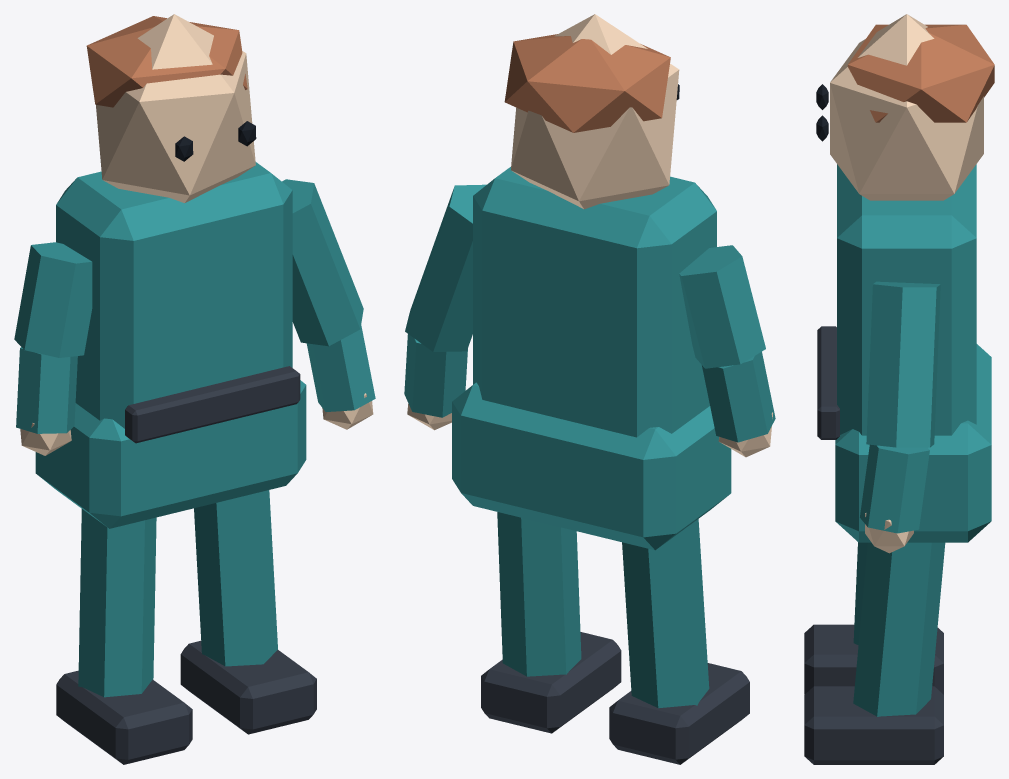
The model's file is npcs_007_seed100.glb.
The picture shows the model from 3 angles, left to right: view 1: azimuth 30°, elevation 25°; view 2: azimuth 150°, elevation 25°; view 3: azimuth 270°, elevation 25°; orthographic projection. The views are drawn at different scales.
Parts seen in each view (by area): view 1: npcs_007_seed100; view 2: npcs_007_seed100; view 3: npcs_007_seed100.
Part boxes in pixels (left/top/right/bottom): npcs_007_seed100: left=14, top=14, right=375, bottom=764; npcs_007_seed100: left=404, top=14, right=775, bottom=764; npcs_007_seed100: left=804, top=14, right=994, bottom=764.
Bounding box in the file's own units: 0.9504 × 1.79 × 0.4374.
